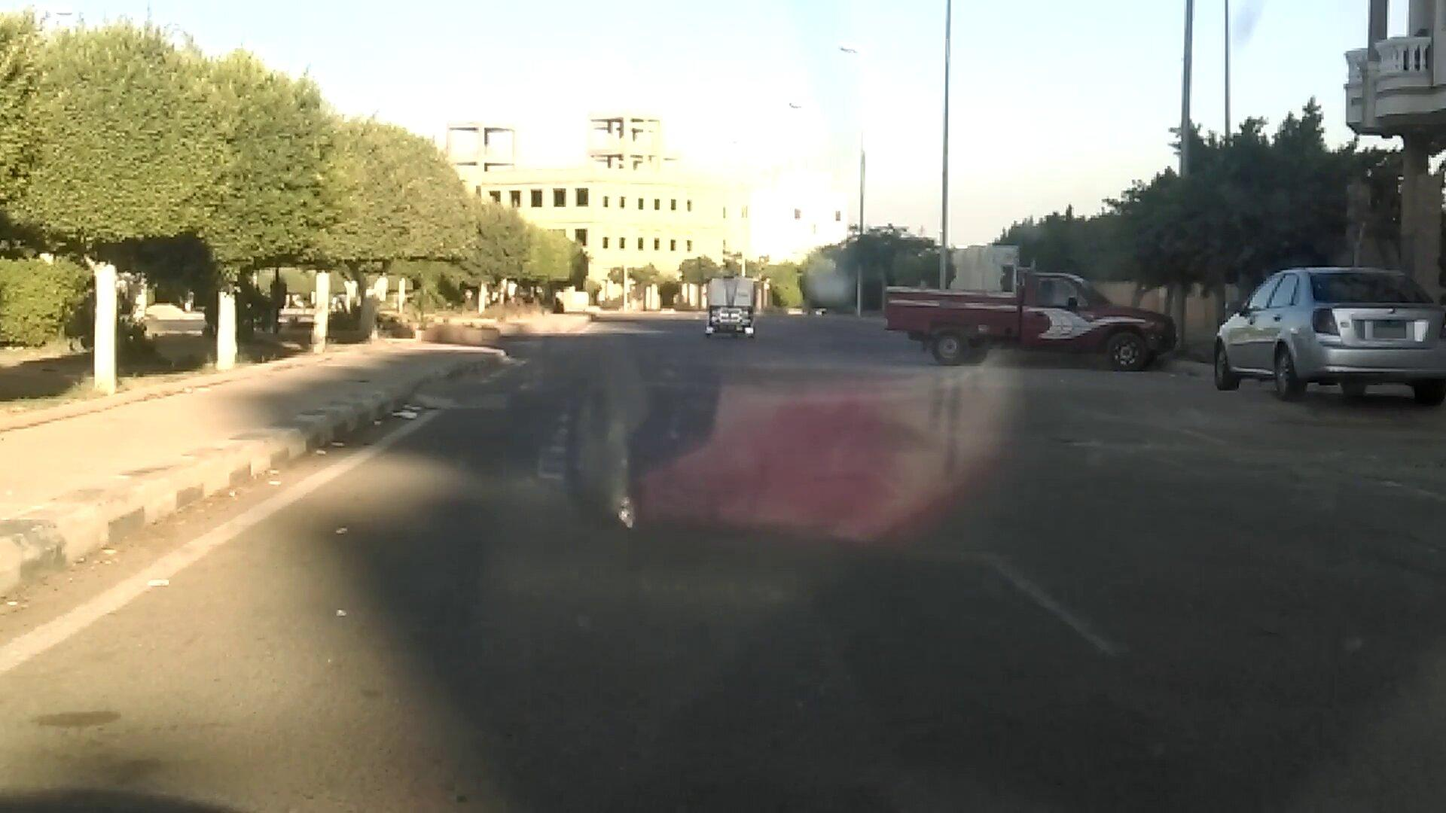Pothole: (1051, 427, 1218, 467)
